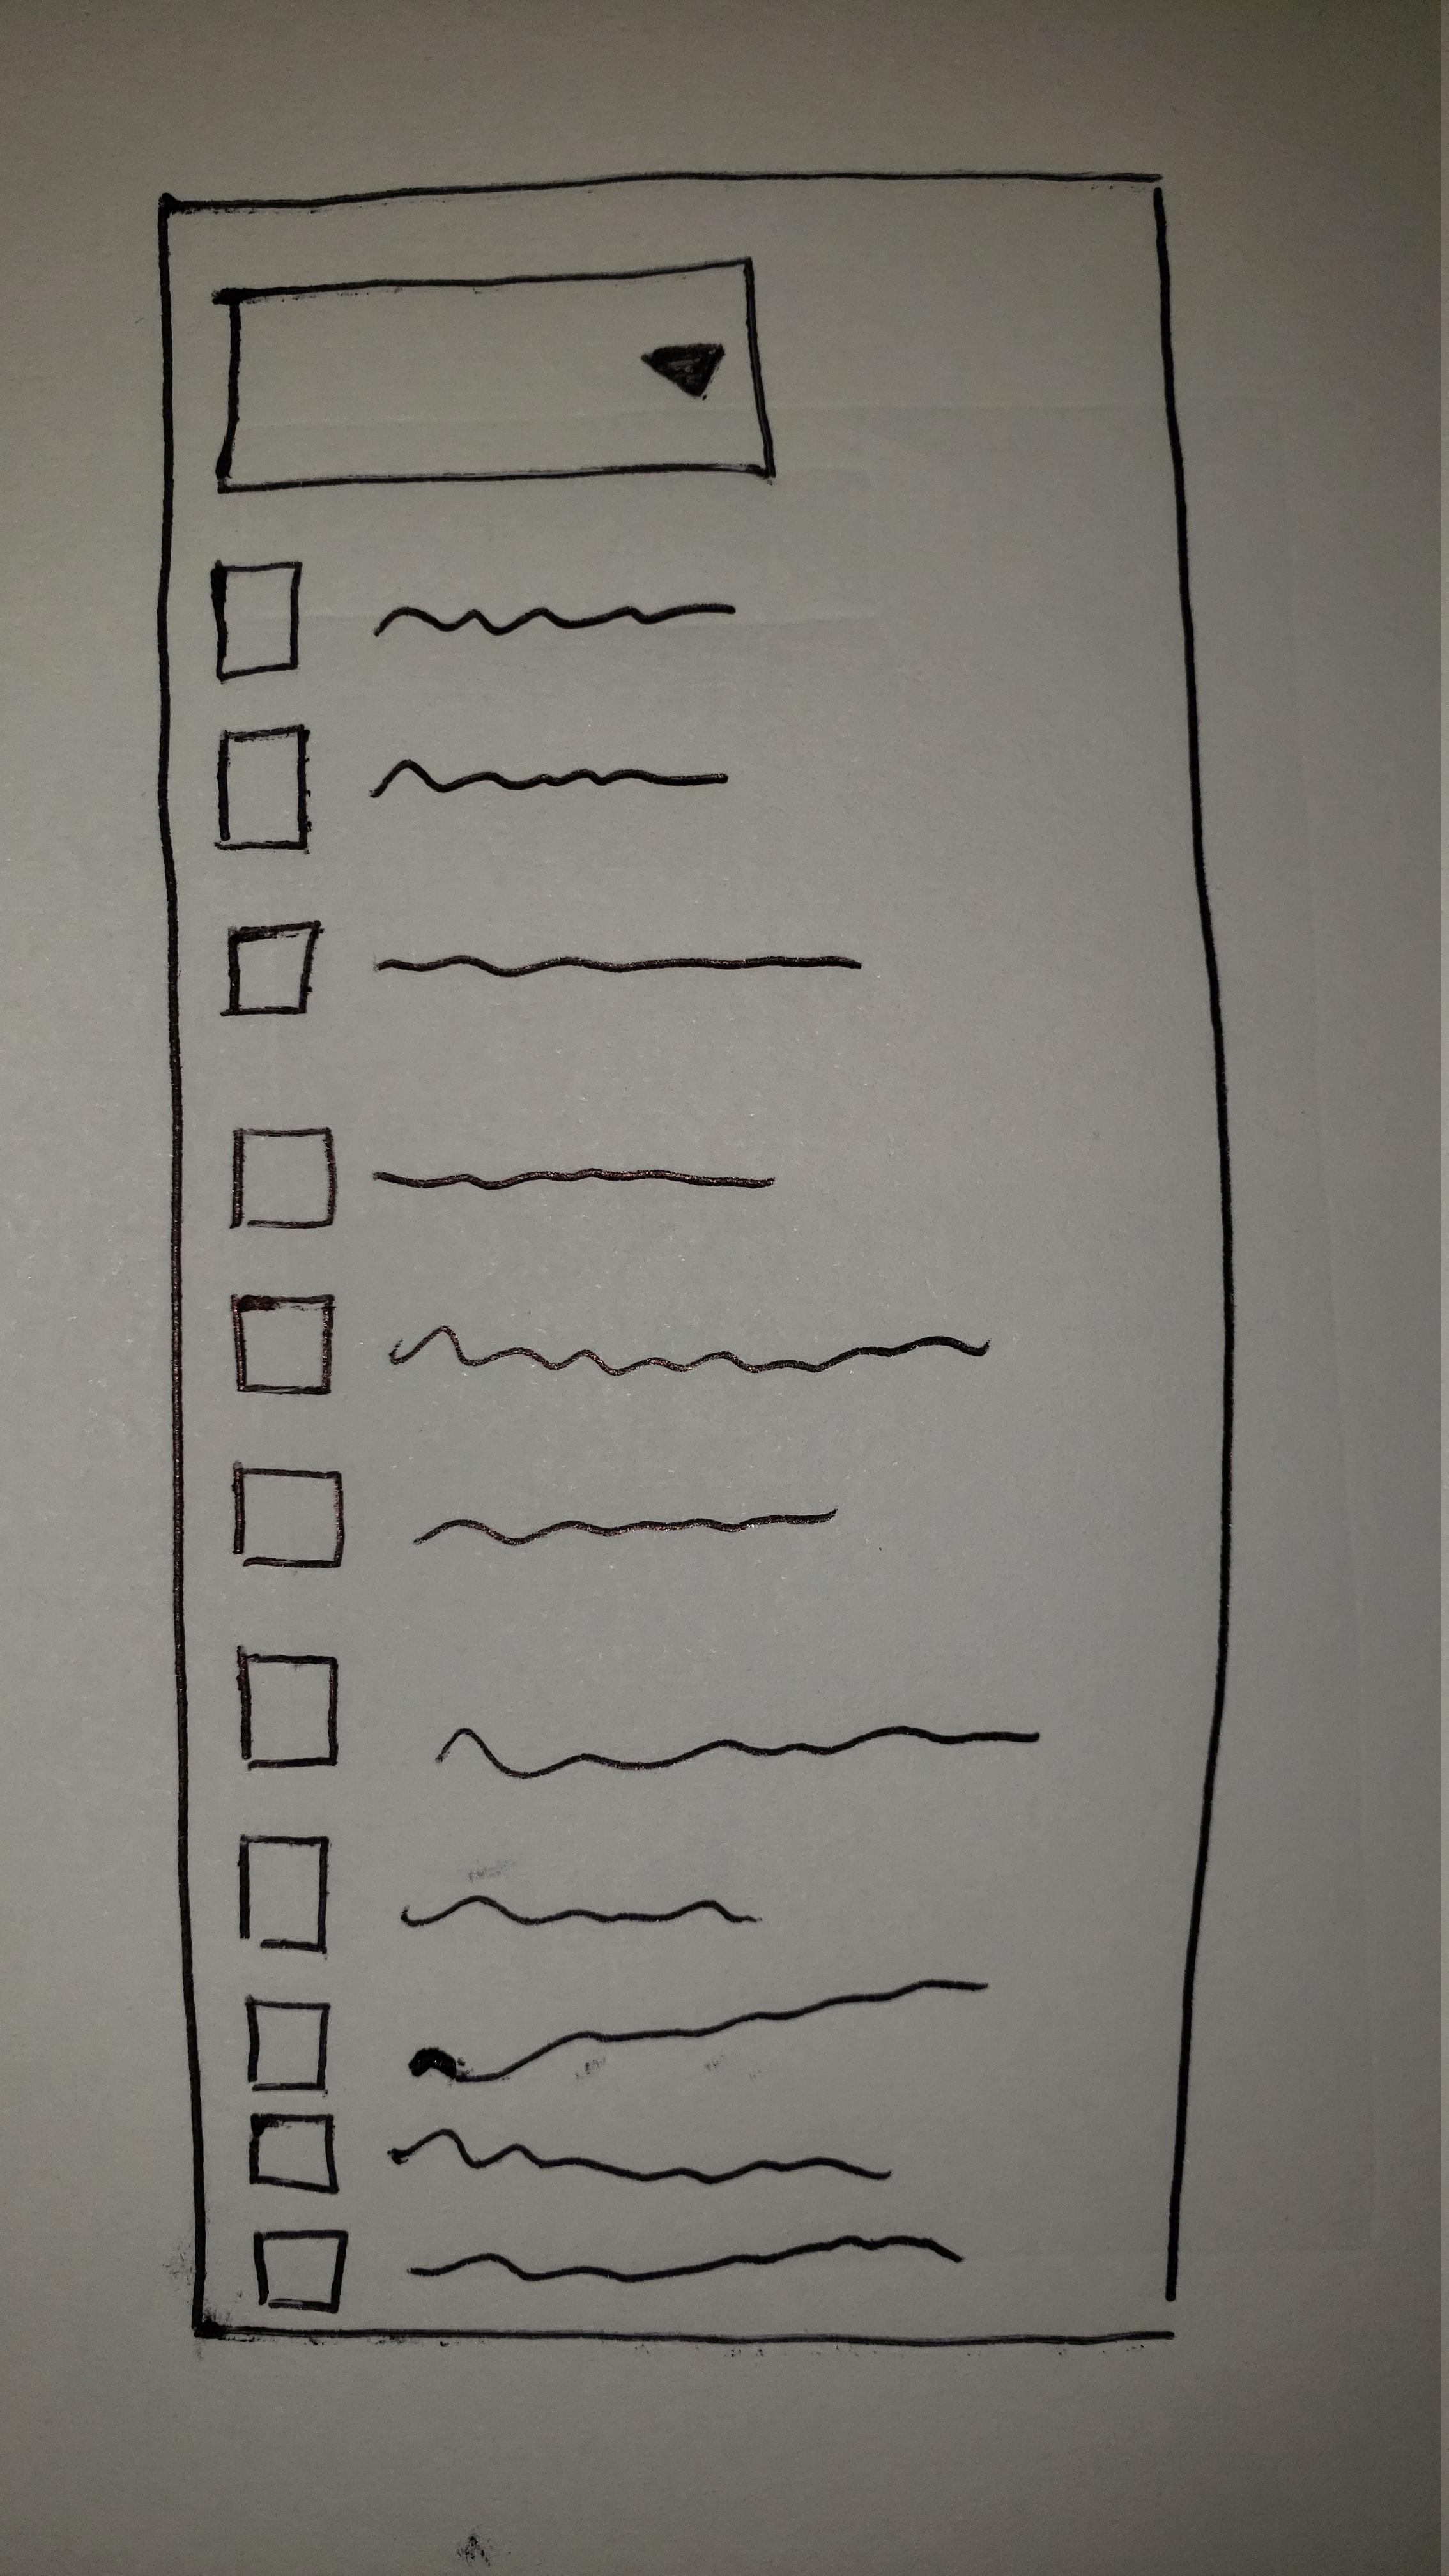CheckBox: (237, 1644, 1039, 1780), (242, 1978, 987, 2091), (230, 1293, 989, 1394), (216, 722, 736, 851), (209, 557, 738, 683), (232, 1461, 839, 1568), (237, 1833, 761, 1955), (226, 920, 865, 1016), (253, 2229, 962, 2312), (246, 2109, 893, 2196), (230, 1127, 777, 1226)
ListPicker: (214, 253, 775, 492)
Screen: (157, 172, 1235, 2346)
